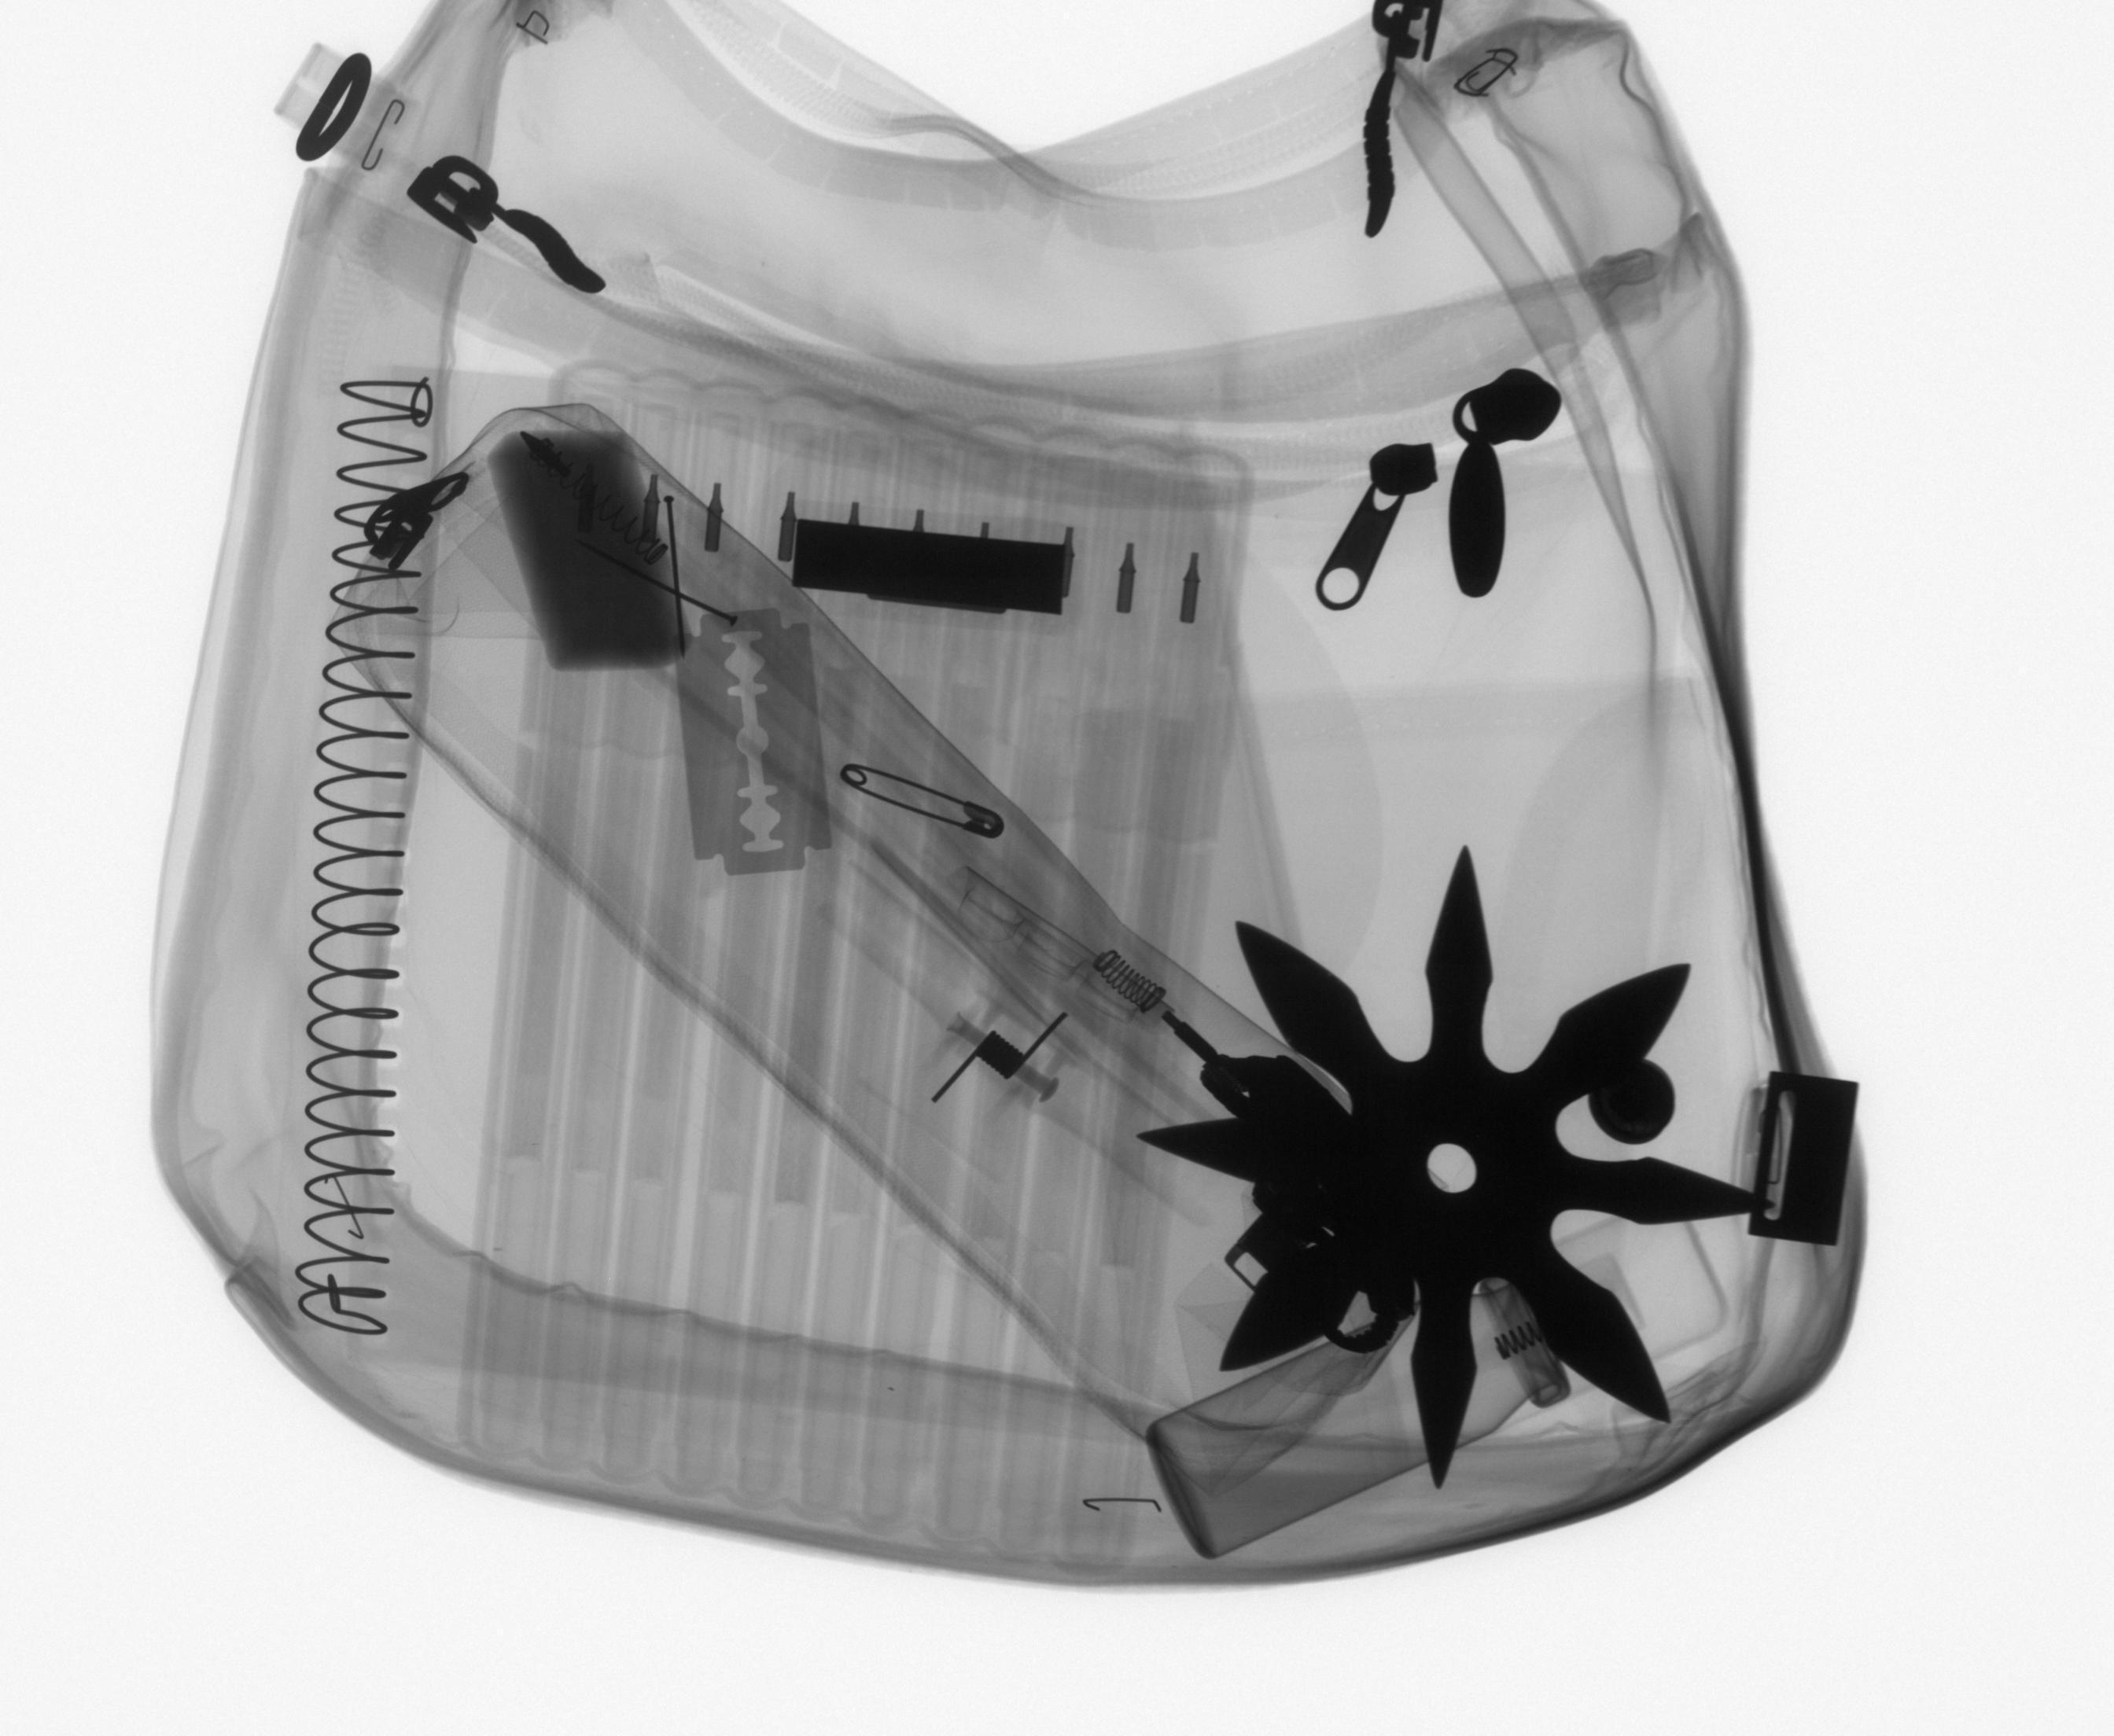RazorBlade: (661, 598, 854, 890)
Shuriken: (1127, 834, 1791, 1499)
